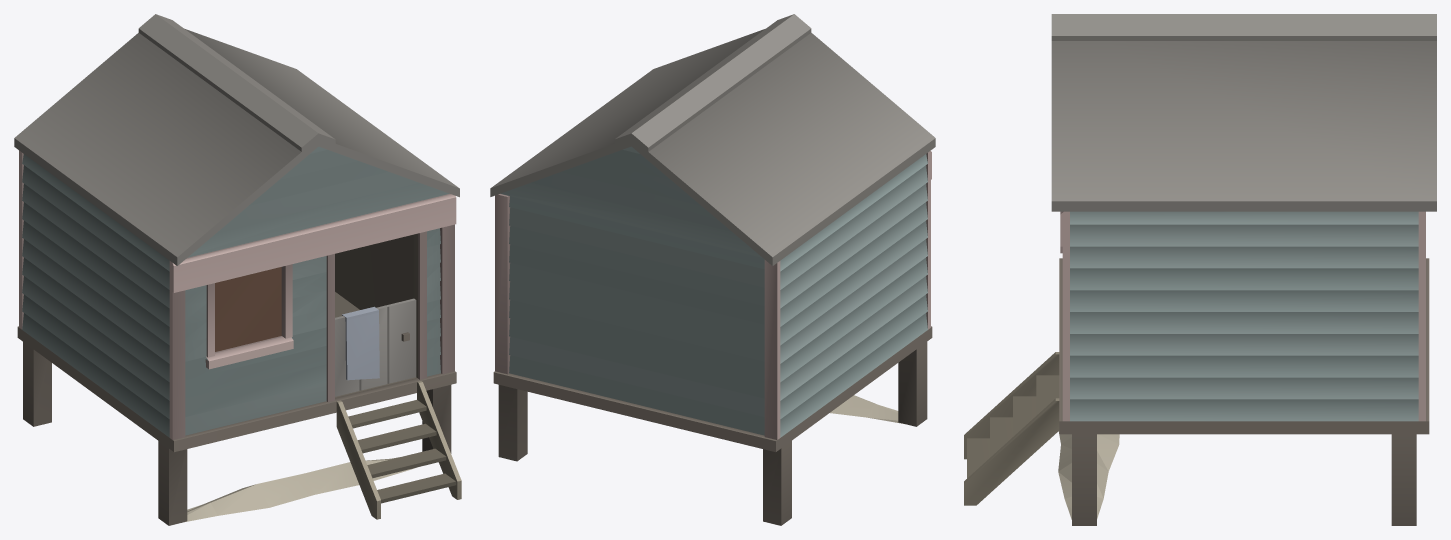
The model's file is hut_b.glb.
The picture shows the model from 3 angles, left to right: view 1: azimuth 30°, elevation 25°; view 2: azimuth 150°, elevation 25°; view 3: azimuth 270°, elevation 25°; orthographic projection. The views are drawn at different scales.
Parts seen in each view (by area): view 1: hut_b; view 2: hut_b; view 3: hut_b.
Boxes of the visible parts, x1,y1,x2,y2 form: hut_b: [14, 14, 461, 525]; hut_b: [490, 14, 935, 525]; hut_b: [964, 14, 1436, 525].
Bounding box in the file's own units: 4 × 4.93 × 4.91.
